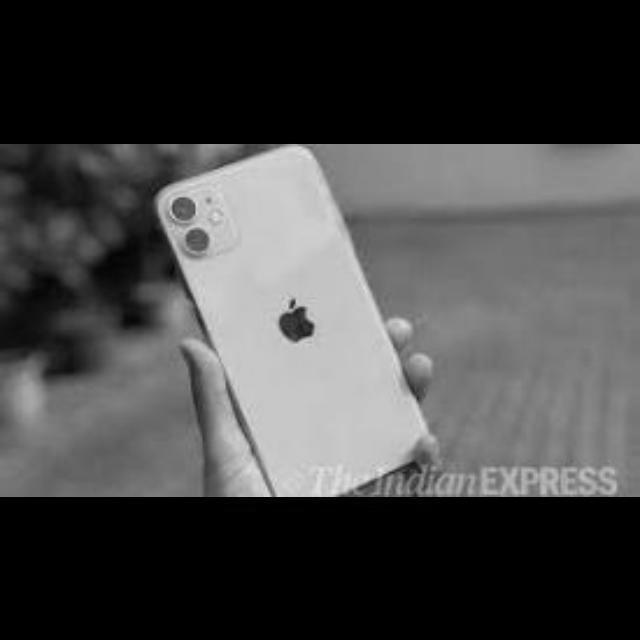fake: (122, 151, 450, 503)
